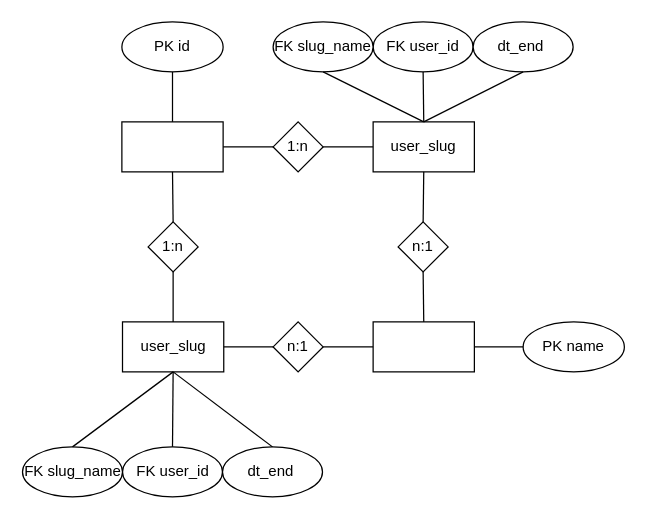
Image size: 646x519. Some labels were removed from this diagram. The shapes that lost their labels are listed below. From the top down, each one's centre as x and y in pixels, then its label:
At pixel 172 146: "user".
At pixel 423 346: "slug".
